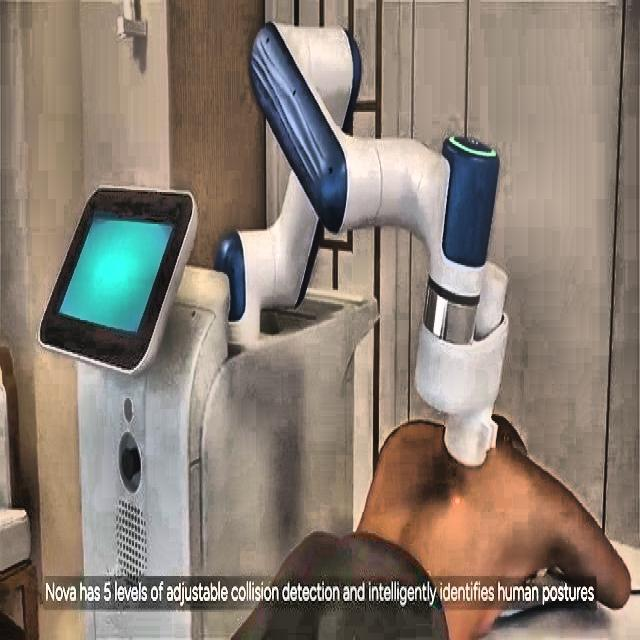robot: (214, 13, 522, 484)
